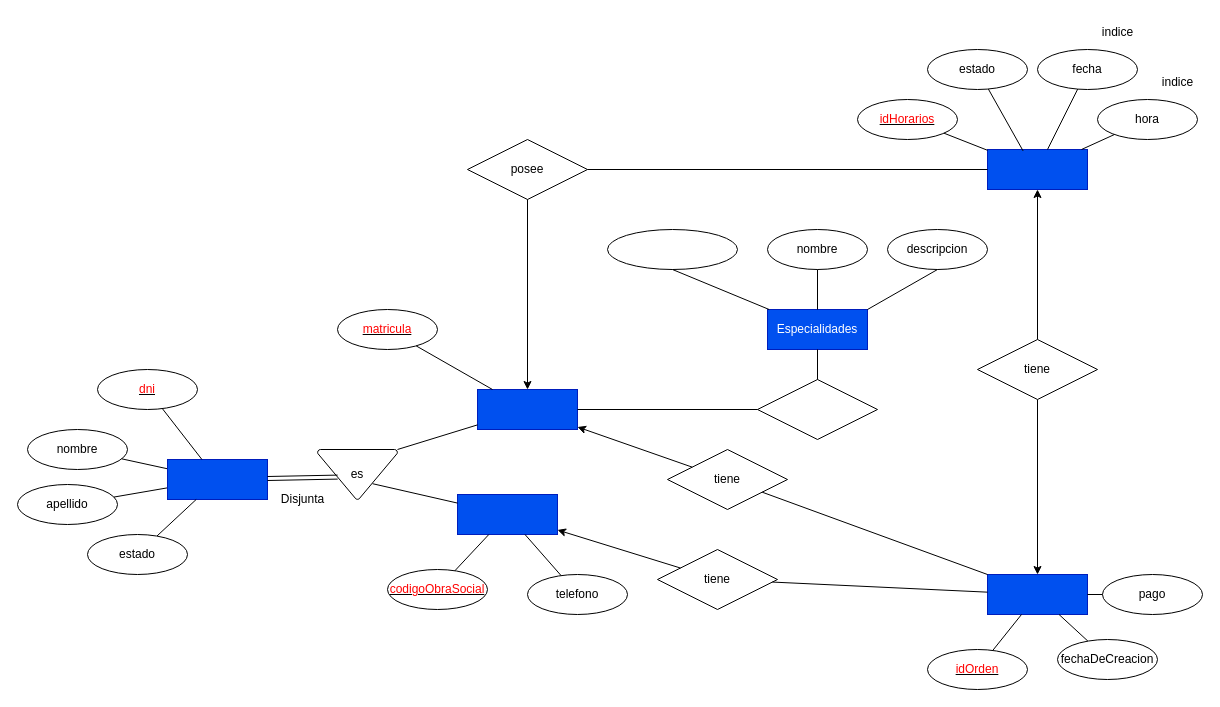
This 1220x707 diagram has some shape labels left out. Each missing label, with the centre of its shape:
Afiliados: the point at 507,514
especializacion: the point at 817,409
Horario: the point at 1037,169
nombreEspecialidades: the point at 672,249
Orden: the point at 1037,594
Persona: the point at 217,479
Prestadores: the point at 527,409
